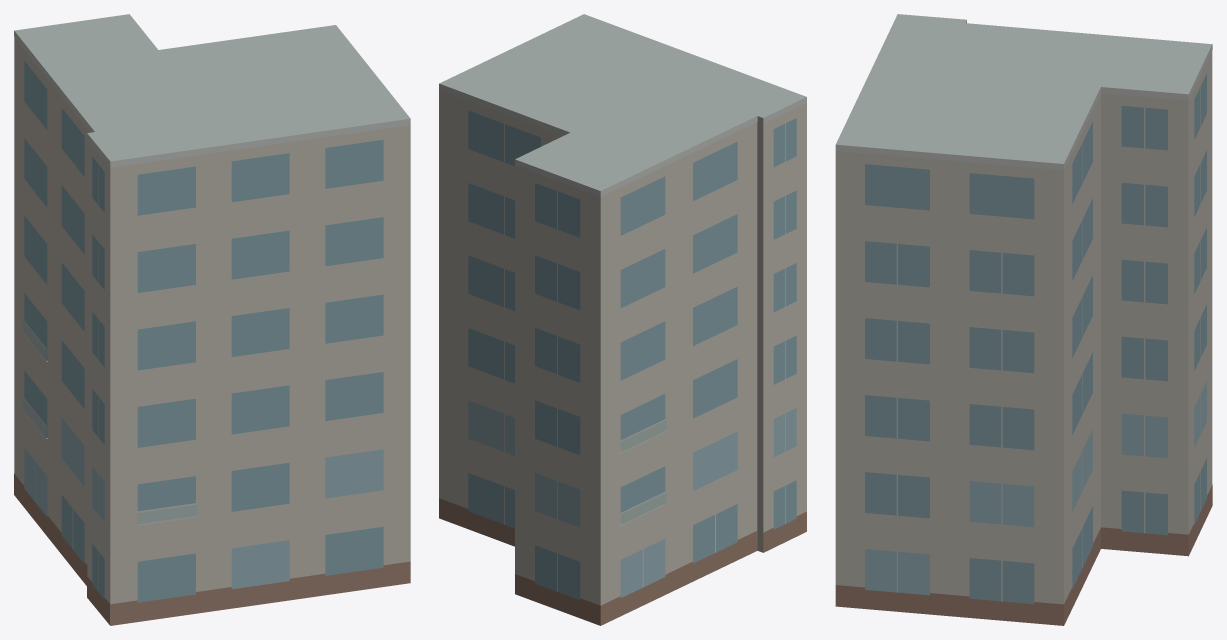
Rendered from survey-upis-32643098.glb.
3 views of the same model, side by side, from view 1: azimuth 30°, elevation 25°; view 2: azimuth 150°, elevation 25°; view 3: azimuth 270°, elevation 25° (orthographic). The views are drawn at different scales.
Parts seen in each view (by area): view 1: survey-upis-32643098.tmp; view 2: survey-upis-32643098.tmp; view 3: survey-upis-32643098.tmp.
Boxes of the visible parts, x1,y1,x2,y2 form: survey-upis-32643098.tmp: (14,14,410,625); survey-upis-32643098.tmp: (439,14,806,625); survey-upis-32643098.tmp: (835,14,1212,625).
Size of the model in its own units: 12.76 by 18.3 by 13.54.
